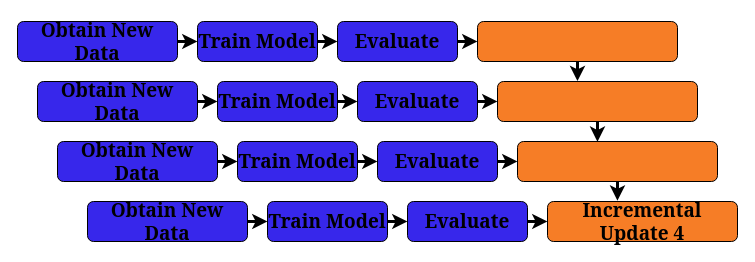
Some shapes in this 755 by 262 pixel diagram are drawn without their labels. The shapes that lost their labels are listed below. From the top down, each one's centre as x and y in pixels, then its label:
At (x=577, y=41): "Incremental Update 1".
At (x=597, y=101): "Incremental Update 2".
At (x=617, y=161): "Incremental Update 3".
